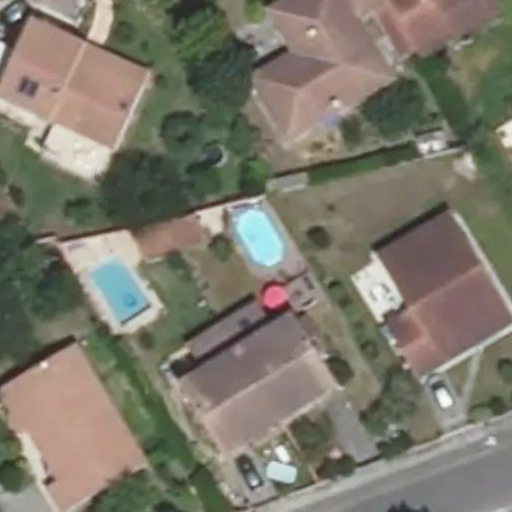pool: (225, 221, 287, 262)
